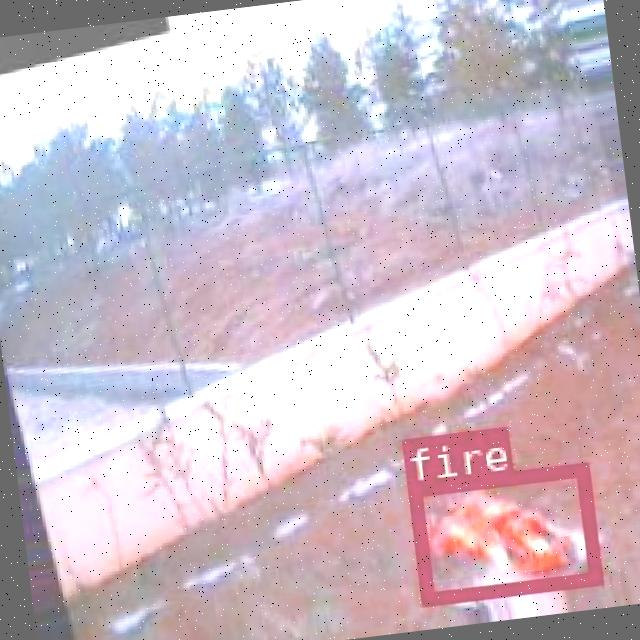fire: (406, 460, 601, 602)
